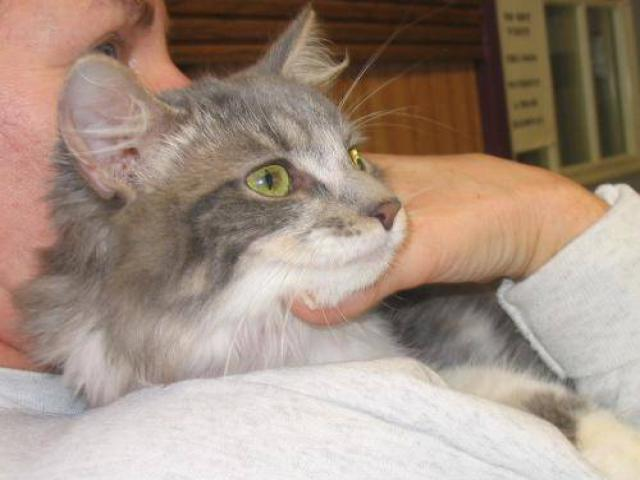cat: (29, 41, 569, 401)
